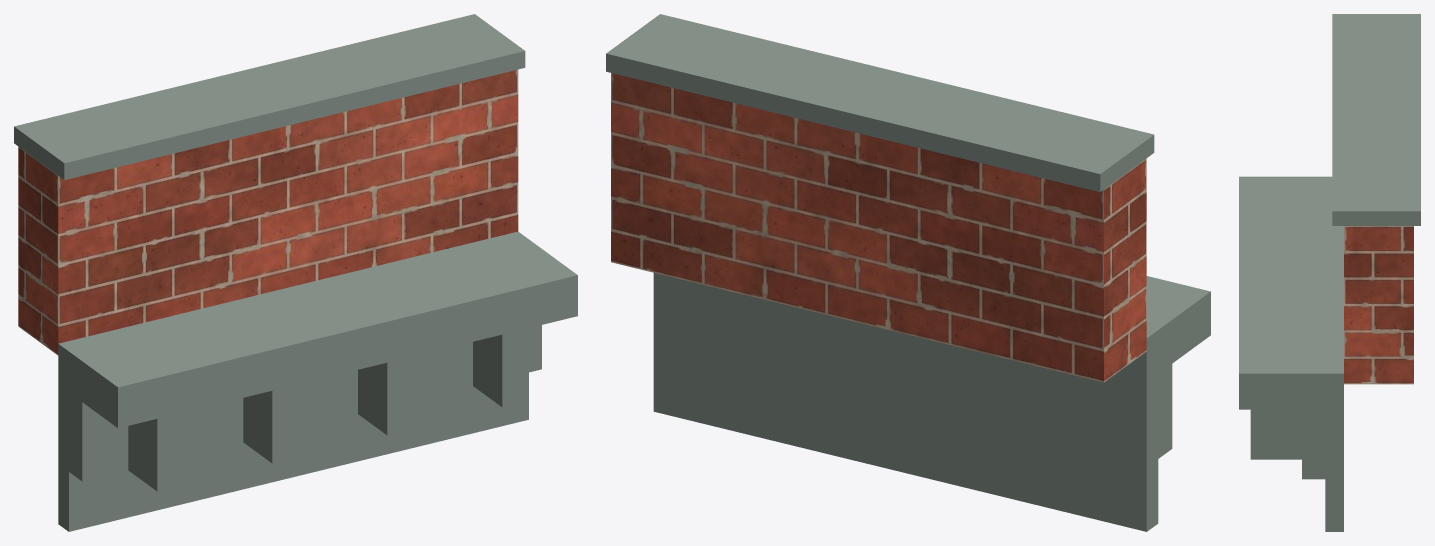
Rendered from cornice_metal.glb.
The picture shows the model from 3 angles, left to right: view 1: azimuth 30°, elevation 25°; view 2: azimuth 150°, elevation 25°; view 3: azimuth 270°, elevation 25°; orthographic projection. The views are drawn at different scales.
Visible parts, largest first — view 1: cornice_metal_metal, cornice_metal_brick; view 2: cornice_metal_metal, cornice_metal_brick; view 3: cornice_metal_metal, cornice_metal_brick.
Boxes of the visible parts, x1,y1,x2,y2 form: cornice_metal_metal: [14, 14, 577, 531]; cornice_metal_brick: [18, 69, 518, 355]; cornice_metal_metal: [606, 14, 1210, 531]; cornice_metal_brick: [611, 73, 1146, 382]; cornice_metal_metal: [1239, 14, 1420, 531]; cornice_metal_brick: [1344, 226, 1413, 384].
Size of the model in its own units: 2 by 1.52 by 0.78.
Materials: 2 (1 with a texture image).
